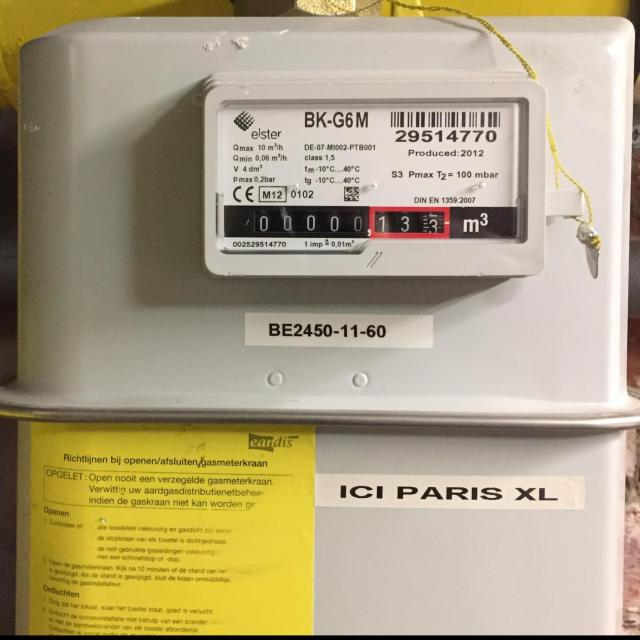gaz_meter: (206, 90, 543, 272)
indication: (245, 206, 451, 238)
